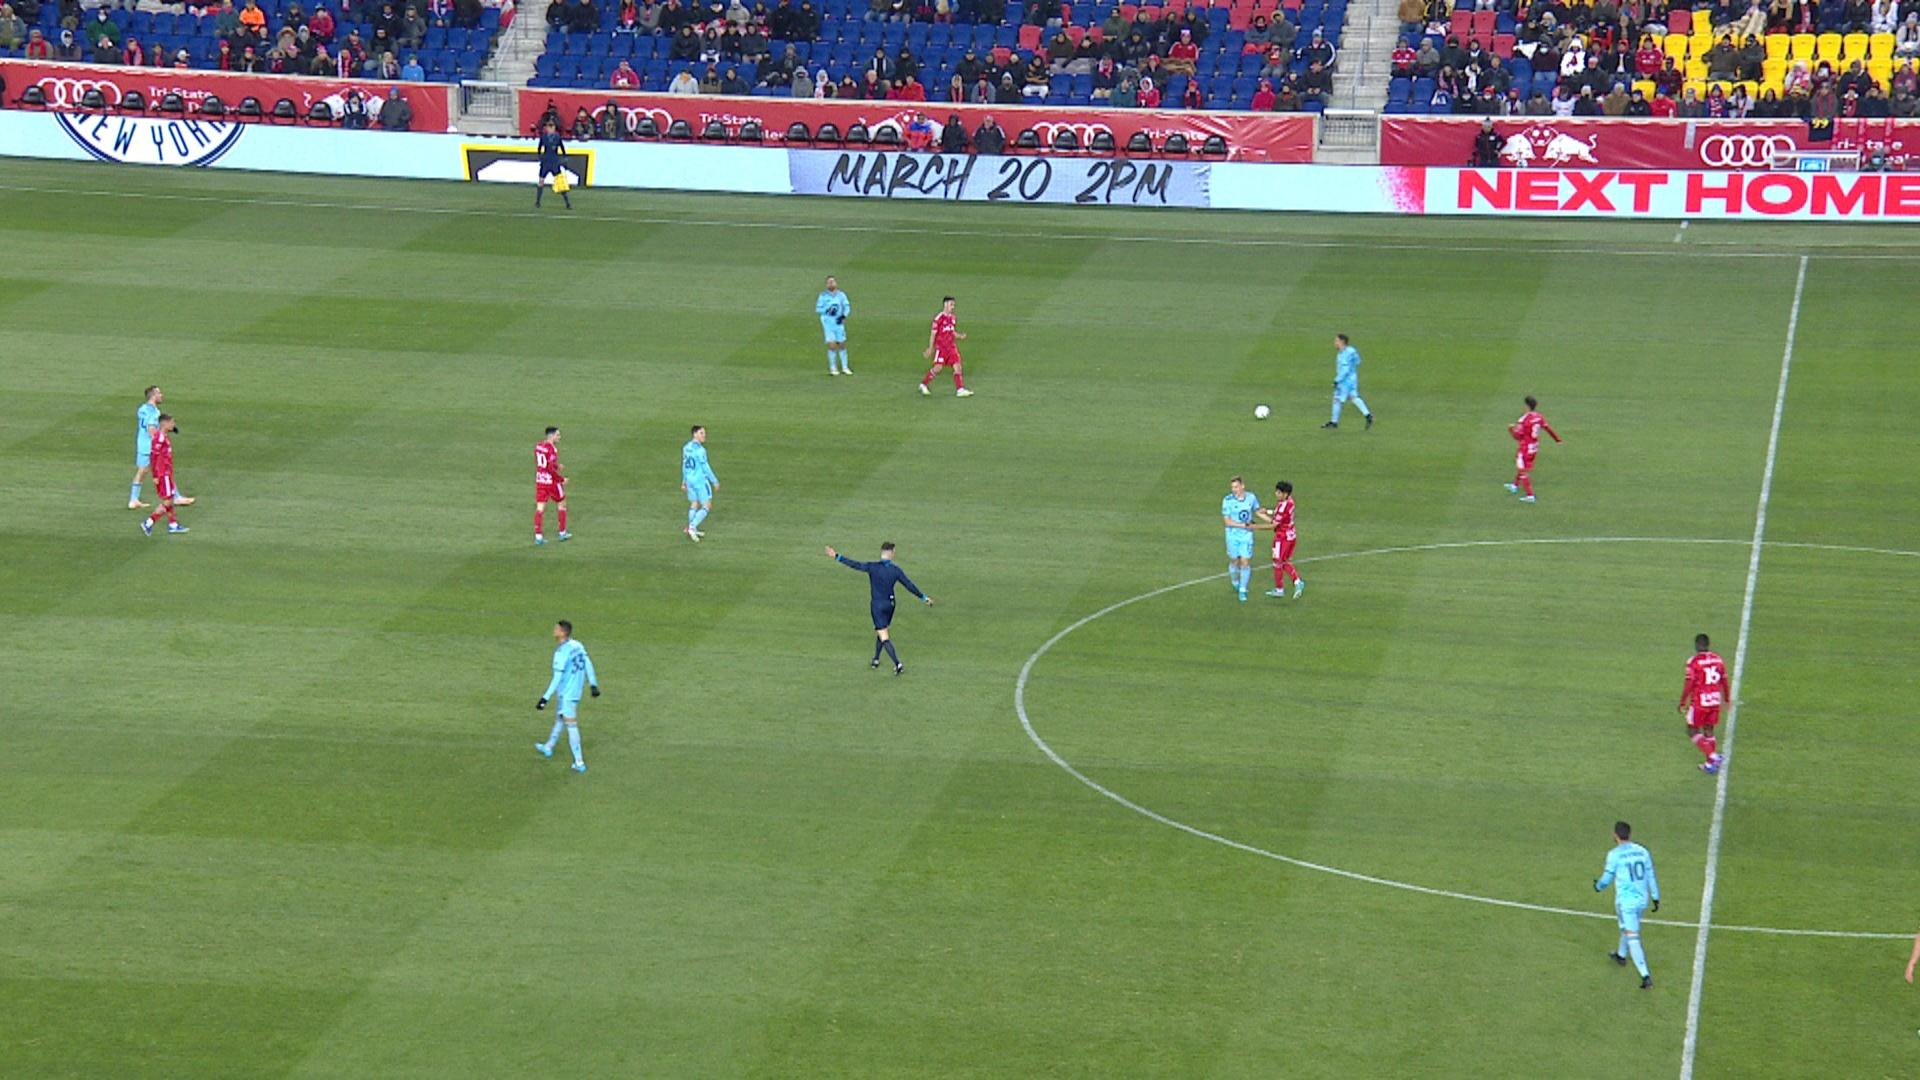football: (1254, 404, 1271, 421)
